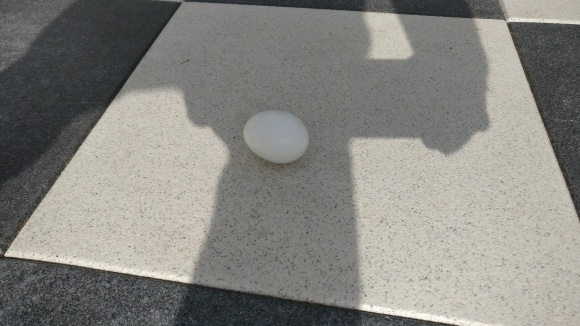egg: (240, 109, 309, 165)
